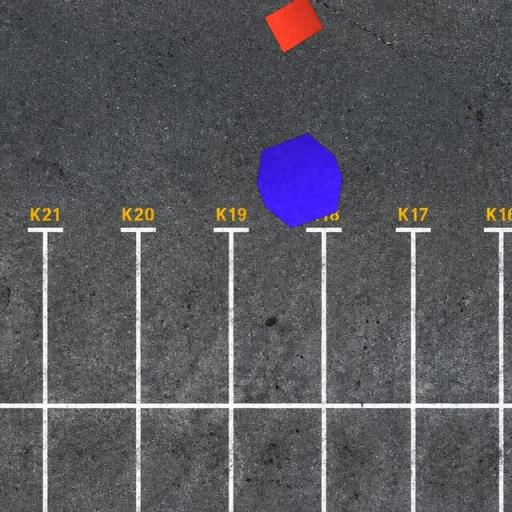RED_SQUARE: (264, 0, 325, 54)
